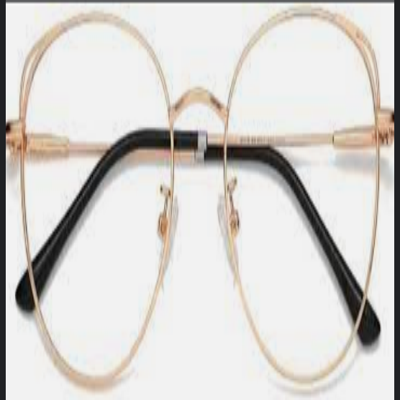glasses: (5, 6, 394, 396)
